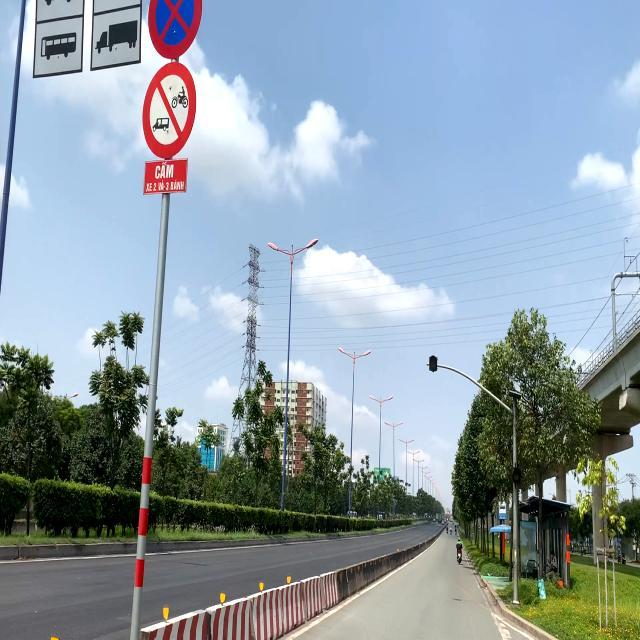P-104: (144, 59, 198, 157)
